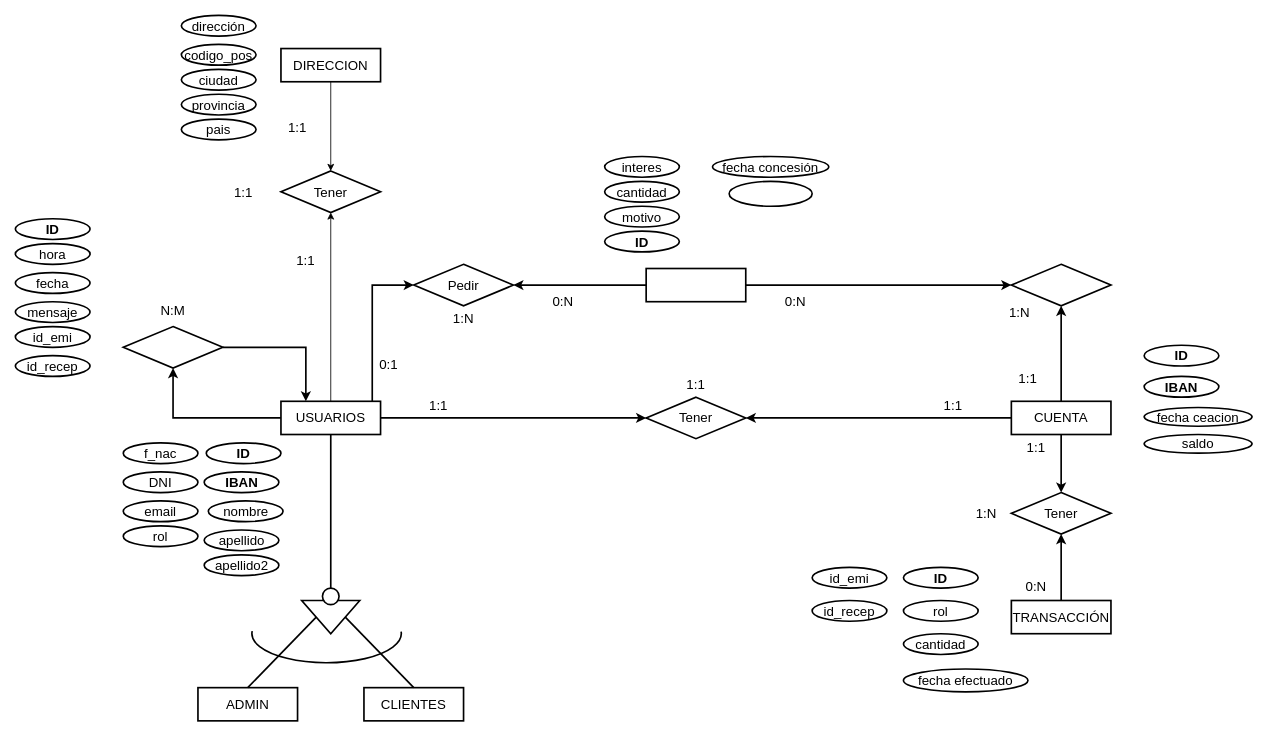
This 1267x735 diagram has some shape labels left out. Here are the shapes that lost their labels. From the top down, the centre of each, then its label:
At point (770, 193): "mensualidad".
At point (695, 284): "PRESTAMOS".
At point (1060, 284): "Pertenecer".
At point (172, 347): "Chatear".
